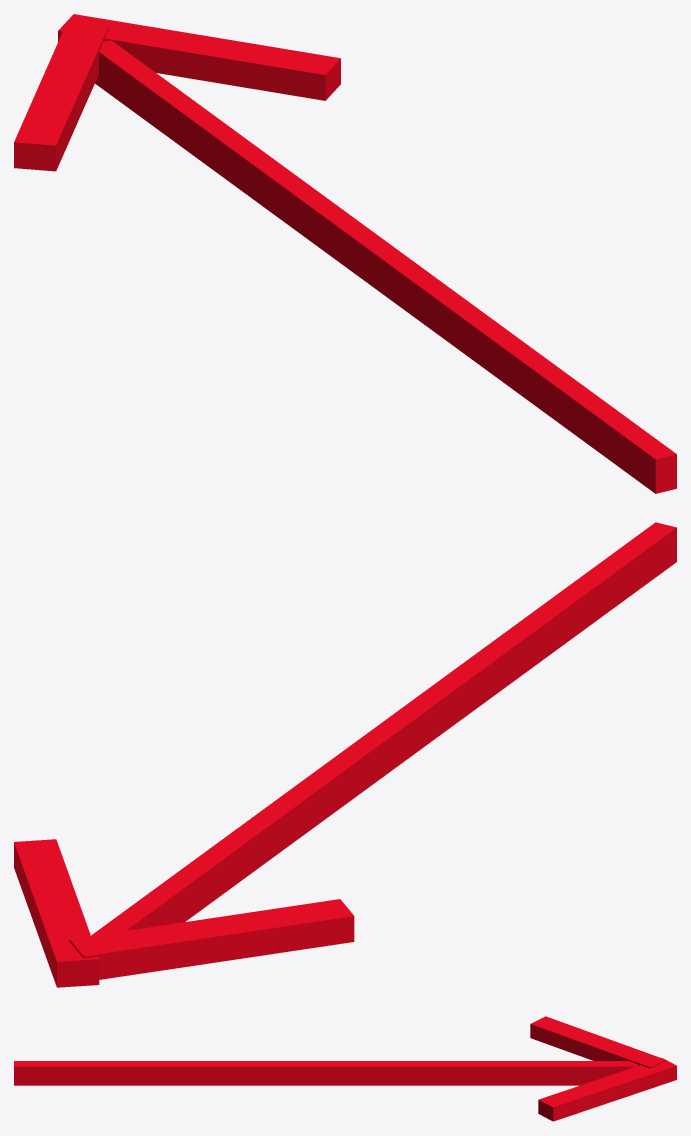
Rendered from arrow.glb.
3 renders of one model, top to bottom at view 1: azimuth 30°, elevation 25°; view 2: azimuth 150°, elevation 25°; view 3: azimuth 270°, elevation 25°, orthographic. The views are drawn at different scales.
Parts seen in each view (by area): view 1: Cube, Cube.002, Cube.001; view 2: Cube, Cube.001, Cube.002; view 3: Cube, Cube.002, Cube.001.
Part boxes in pixels (x1,y1,x2,y2): Cube: [95, 40, 676, 493]; Cube.002: [58, 14, 340, 100]; Cube.001: [14, 23, 108, 171]; Cube: [91, 522, 676, 935]; Cube.001: [69, 899, 354, 979]; Cube.002: [14, 839, 99, 987]; Cube: [14, 1061, 638, 1085]; Cube.002: [538, 1058, 676, 1121]; Cube.001: [530, 1016, 665, 1068].
Bounding box in the file's own units: 6.02 × 0.6482 × 18.78.
